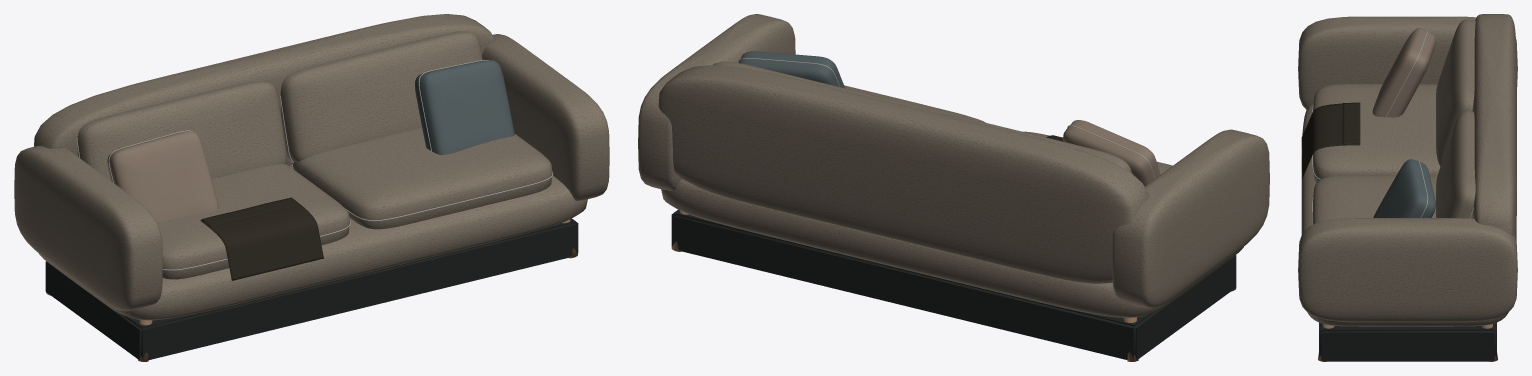
The model's file is industrial.sofa.gltf.
3 views of the same model, side by side, from view 1: azimuth 30°, elevation 25°; view 2: azimuth 150°, elevation 25°; view 3: azimuth 270°, elevation 25° (orthographic). The views are drawn at different scales.
Parts seen in each view (by area): view 1: industrial.sofa.leg; view 2: industrial.sofa.leg; view 3: industrial.sofa.leg.
Boxes of the visible parts, <box> form: industrial.sofa.leg: <box>14,14,609,361</box>; industrial.sofa.leg: <box>638,14,1269,361</box>; industrial.sofa.leg: <box>1298,14,1517,361</box>.
Bounding box in the file's own units: 2.22 × 0.8031 × 0.94.
Materials: 7 (4 with a texture image).
